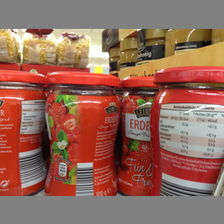jam: (152, 67, 224, 197), (45, 72, 118, 195), (1, 70, 47, 196), (116, 76, 157, 196)
